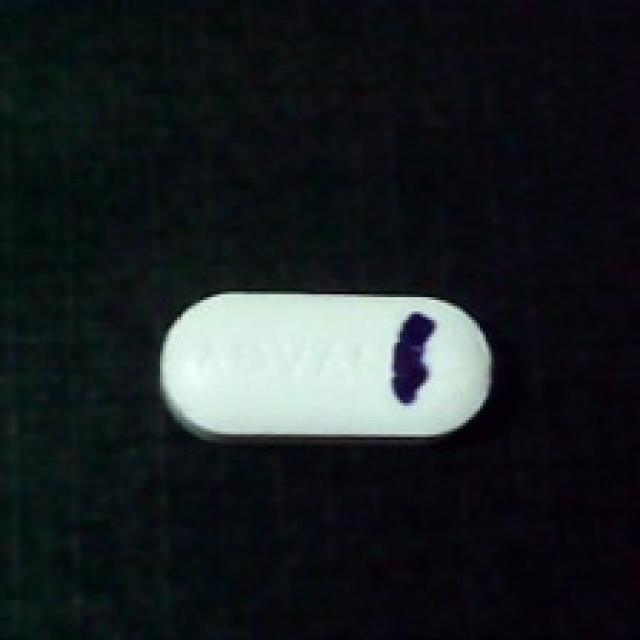defected: (154, 277, 497, 451)
